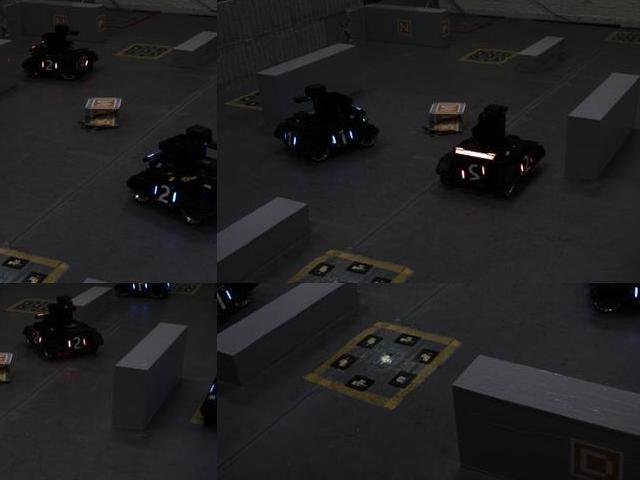armor: (151, 177, 181, 213), (457, 161, 488, 189), (329, 125, 357, 152), (517, 148, 538, 180), (217, 286, 236, 319), (63, 333, 90, 354), (279, 127, 297, 152), (37, 56, 60, 75), (26, 329, 45, 348), (77, 52, 95, 70), (129, 283, 152, 295), (630, 283, 639, 310)
